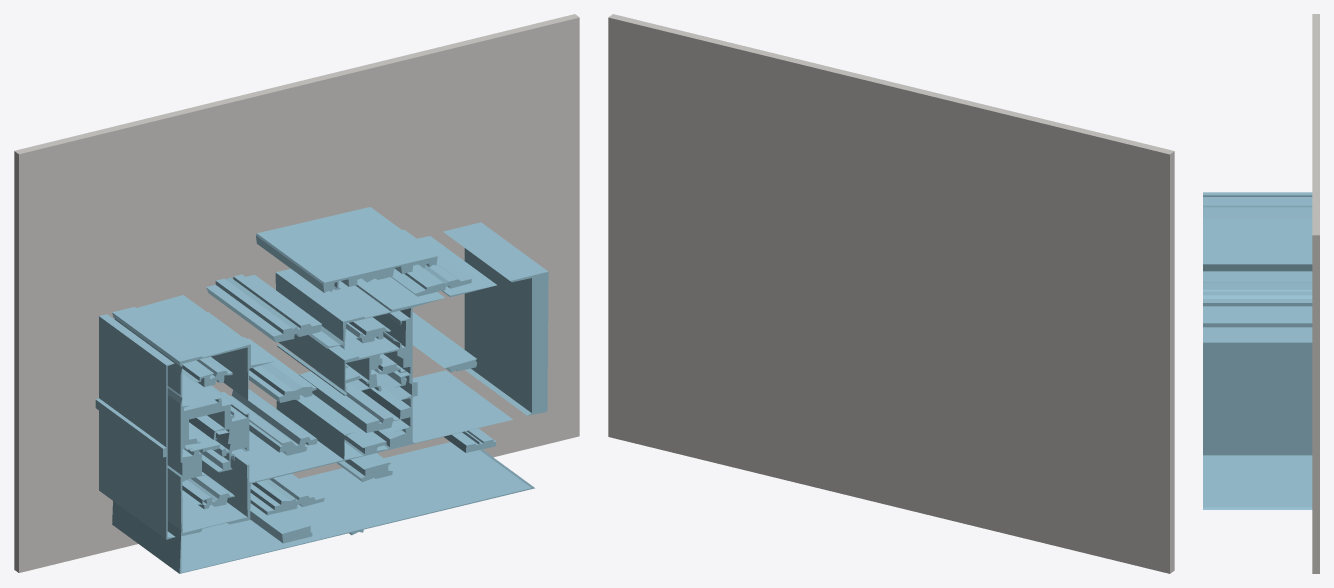
The picture shows the model from 3 angles, left to right: view 1: azimuth 30°, elevation 25°; view 2: azimuth 150°, elevation 25°; view 3: azimuth 270°, elevation 25°; orthographic projection. The views are drawn at different scales.
Parts seen in each view (by area): view 1: world; view 2: world; view 3: world.
Boxes of the visible parts, x1,y1,x2,y2 form: world: (14, 14, 579, 573); world: (608, 14, 1174, 573); world: (1203, 14, 1319, 573).
Bounding box in the file's own units: 10.23 × 7.3 × 2.28.
